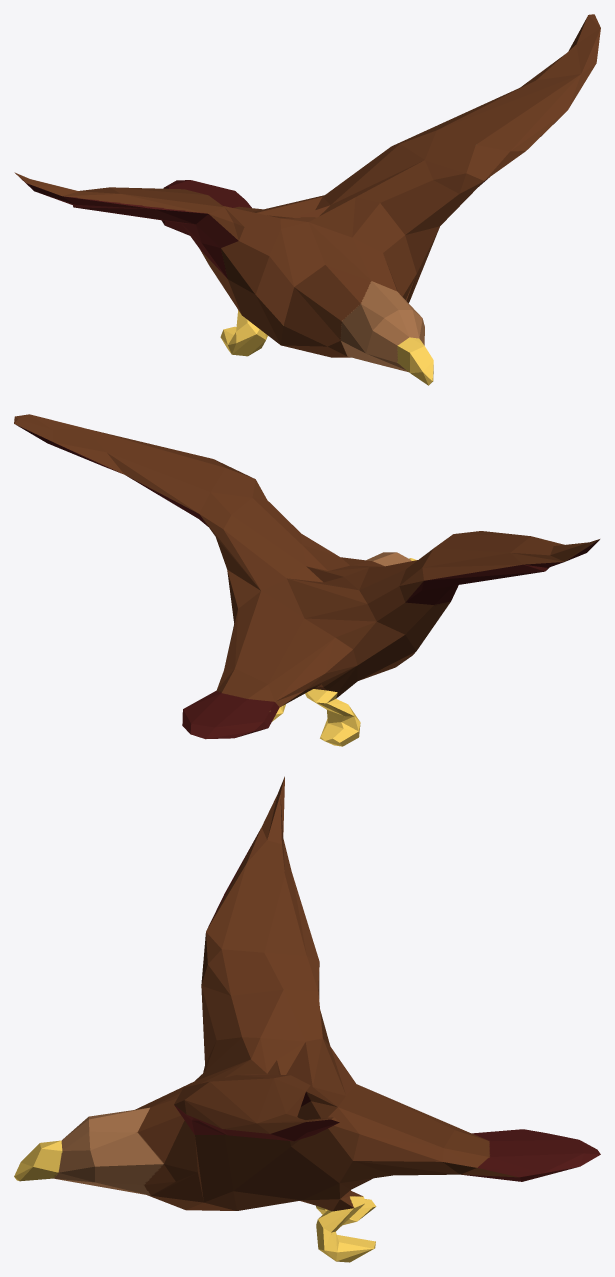
Rendered from aguili_000049.obj.
3 renders of one model, top to bottom at view 1: azimuth 30°, elevation 25°; view 2: azimuth 150°, elevation 25°; view 3: azimuth 270°, elevation 25°, orthographic. The views are drawn at different scales.
Visible parts, largest first — view 1: aguila.001_Cube.001; view 2: aguila.001_Cube.001; view 3: aguila.001_Cube.001.
Part boxes in pixels (x1,y1,x2,y2): aguila.001_Cube.001: [14, 14, 600, 385]; aguila.001_Cube.001: [14, 414, 599, 746]; aguila.001_Cube.001: [14, 776, 600, 1262].
Bounding box in the file's own units: 77.59 × 32.15 × 56.5.
Materials: 1 (1 with a texture image).
